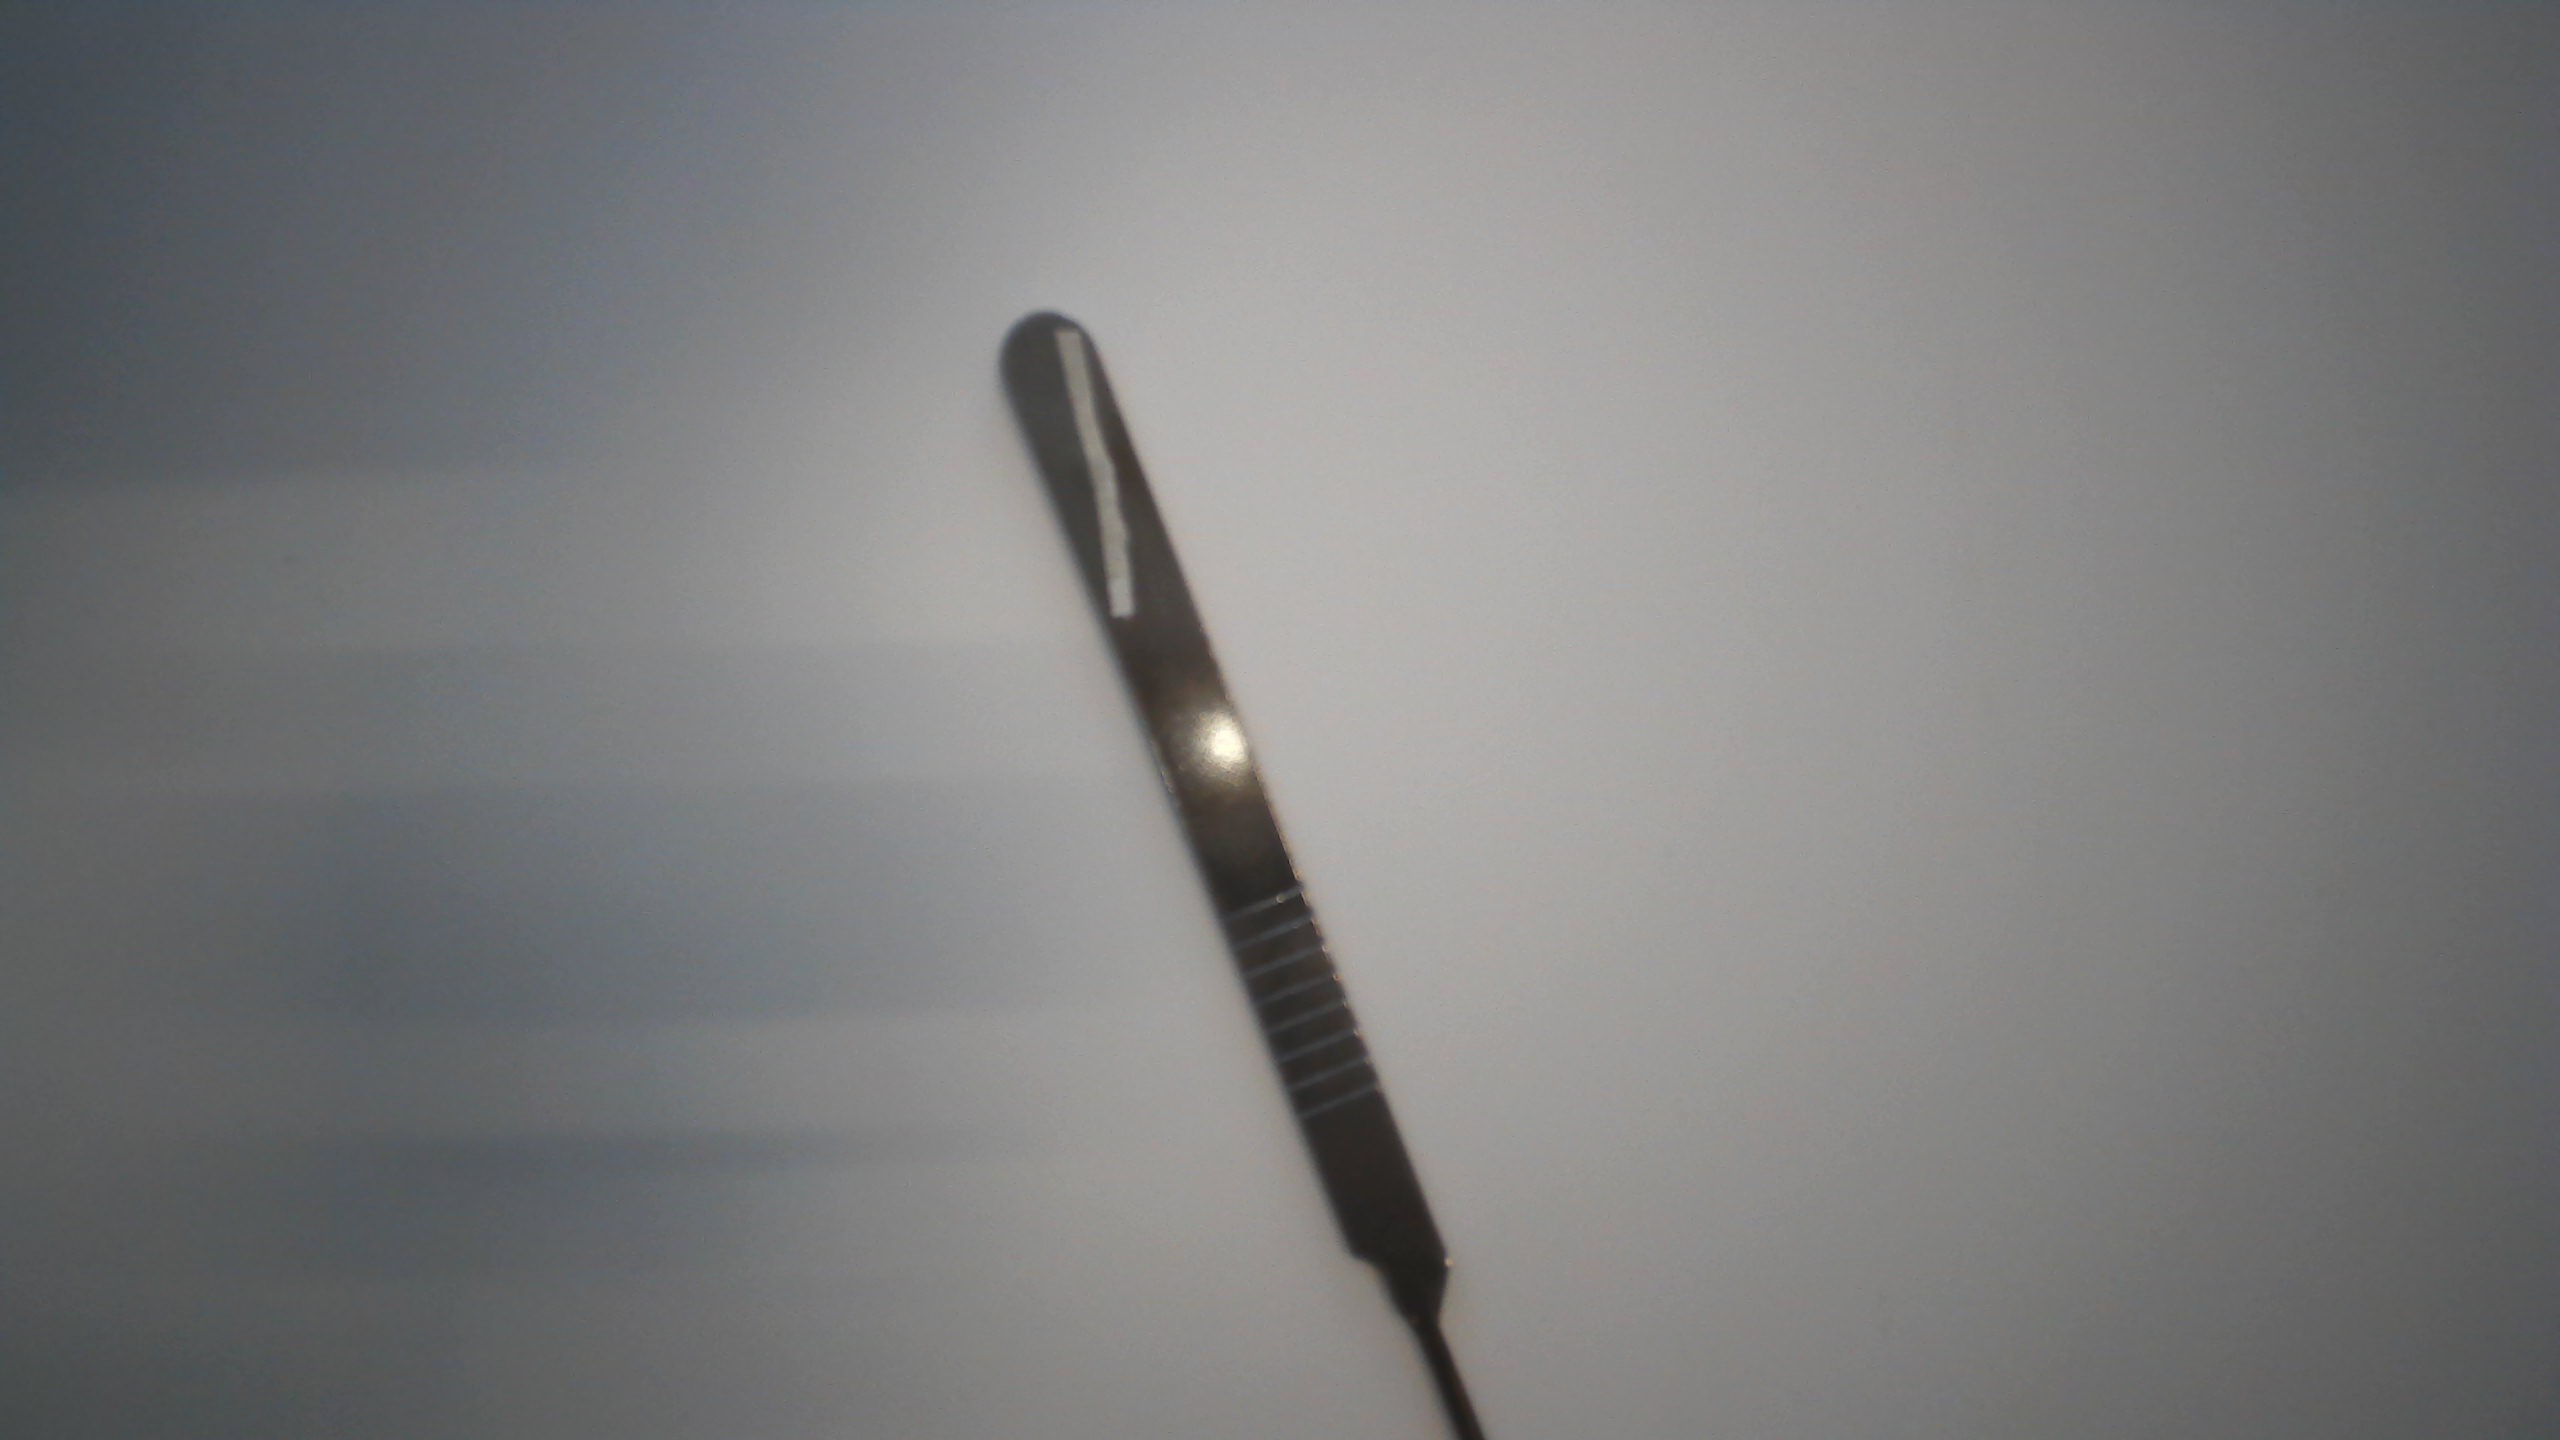Scratches: (1046, 316, 1152, 621)
